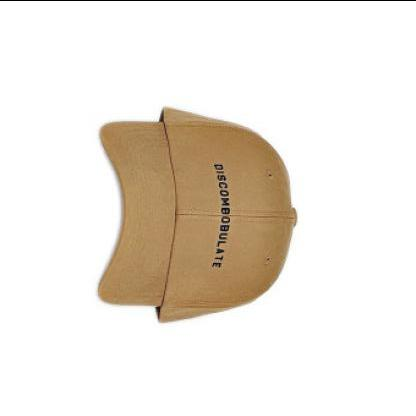cap: (86, 96, 308, 332)
